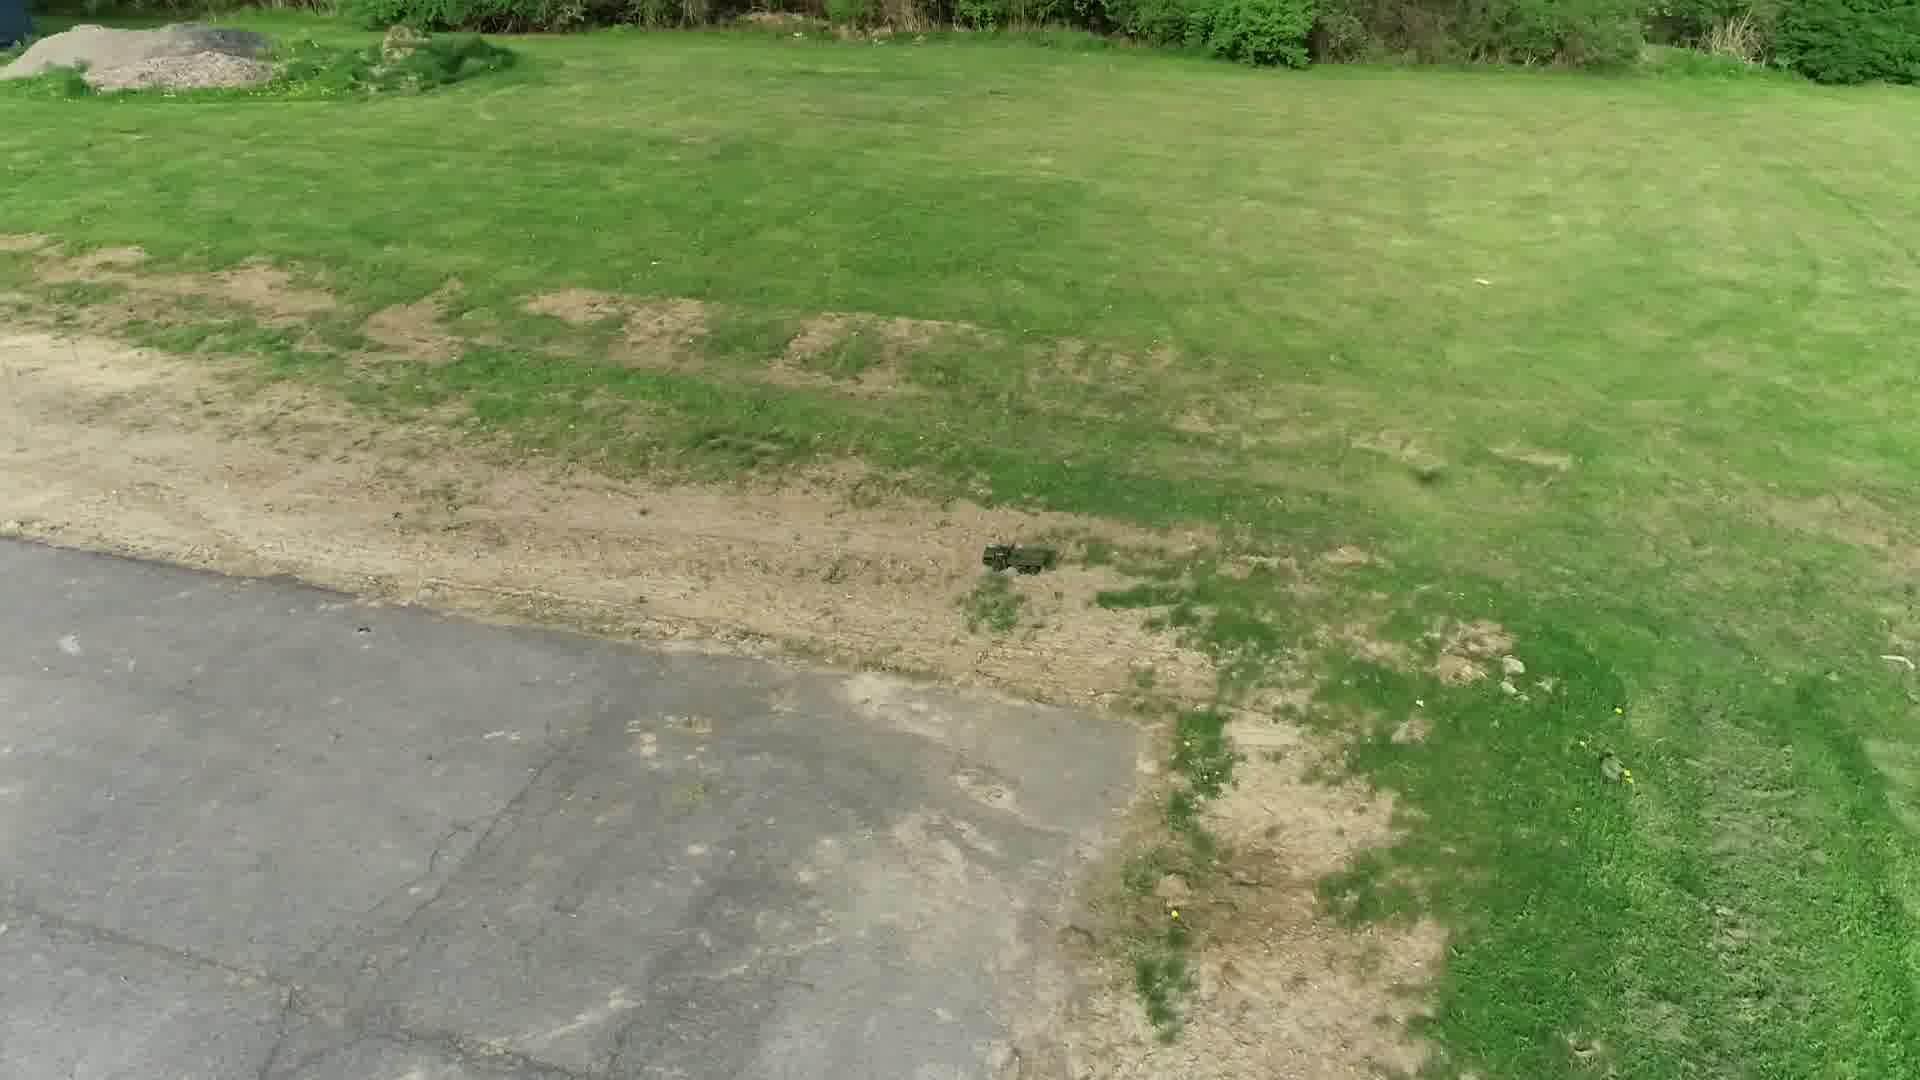transporter9: (980, 541, 1056, 576)
